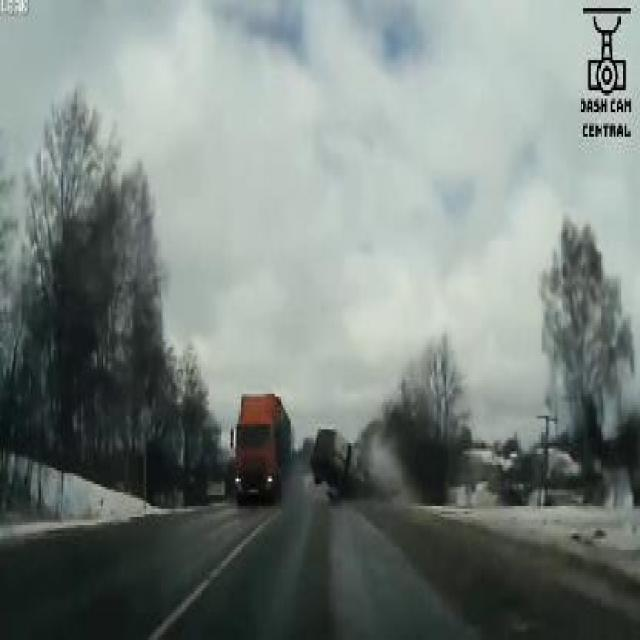accident: (304, 416, 388, 506)
